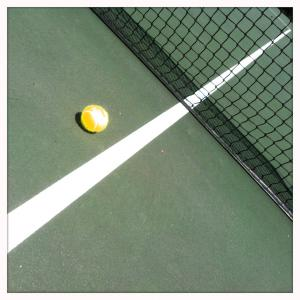TennisBall: (81, 106, 109, 133)
